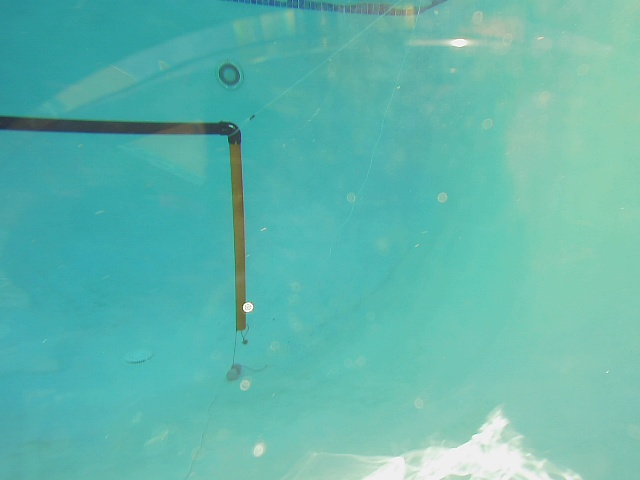Gate: (227, 141, 251, 338)
